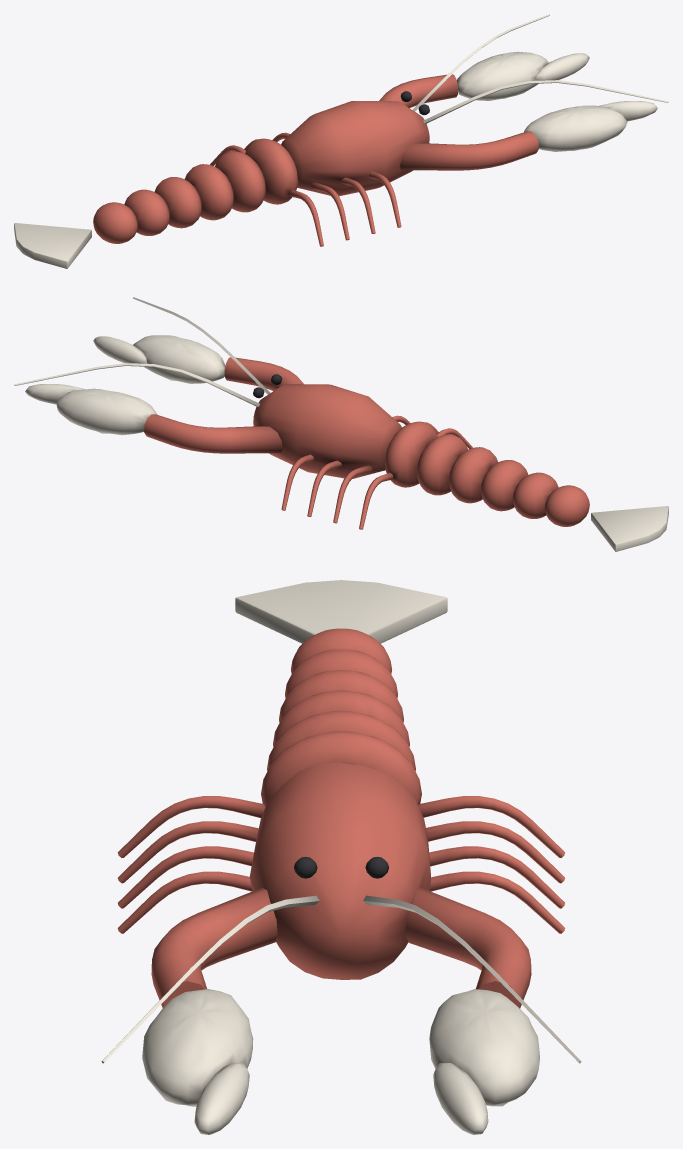
Rendered from food_lobster.glb.
3 renders of one model, top to bottom at view 1: azimuth 30°, elevation 25°; view 2: azimuth 150°, elevation 25°; view 3: azimuth 270°, elevation 25°, orthographic. The views are drawn at different scales.
Visible parts, largest first — view 1: PART; view 2: PART; view 3: PART.
Part boxes in pixels (x1,y1,x2,y2): PART: (14, 14, 668, 268); PART: (14, 297, 668, 551); PART: (101, 580, 581, 1134).
Bounding box in the file's own units: 0.5486 × 0.0778 × 0.1901.
